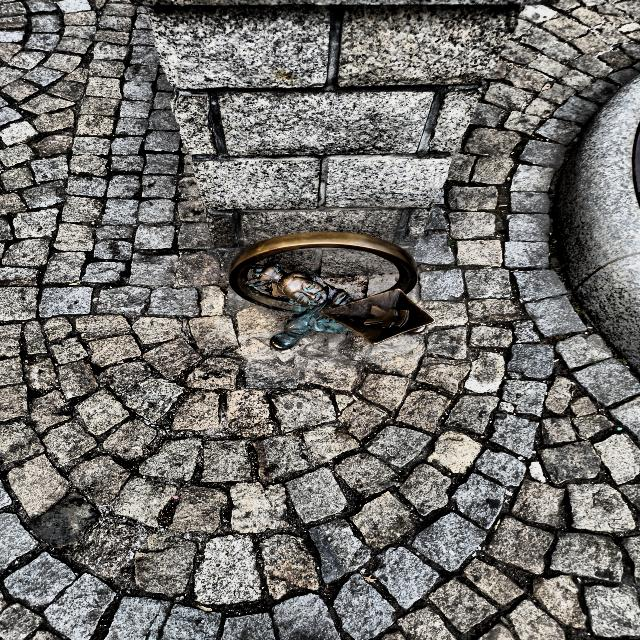TianTian: (230, 231, 433, 350)
